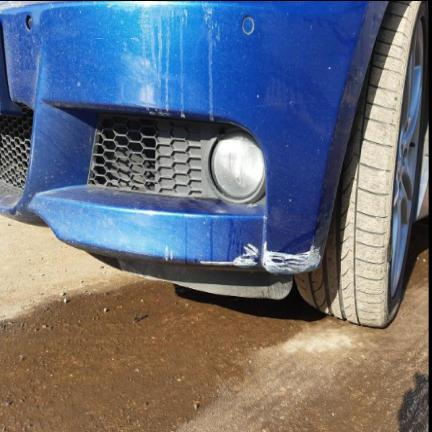scratch: (198, 238, 322, 275), (164, 246, 176, 261)
